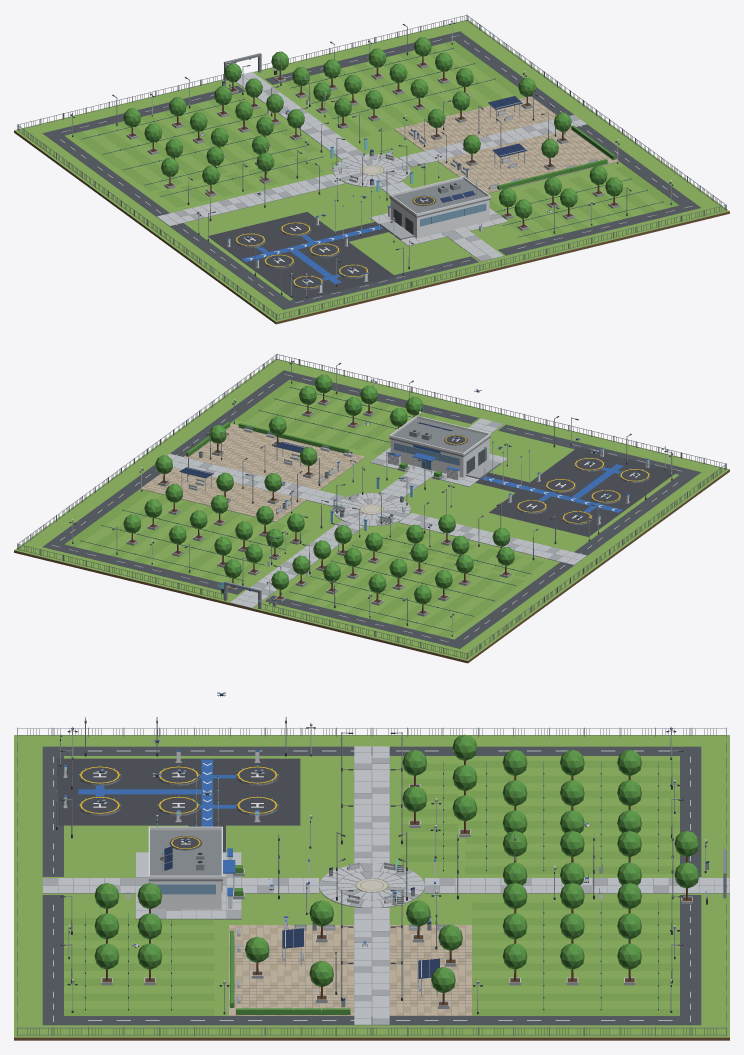
File: Park_Level4_FullEfficiency.fbx
3 views of the same model, one above another, from view 1: azimuth 30°, elevation 25°; view 2: azimuth 150°, elevation 25°; view 3: azimuth 270°, elevation 25° (orthographic). The views are drawn at different scales.
Parts seen in each view (by area): view 1: Park_LV_Ground_01, Park_LV_ServiceHub_01, Park_LV_Plaza_Ring, Park_LV_Rest_South_02, Park_LV_Lawn_SouthEast_05, Park_LV_Yard_Ext2_02, Park_LV_Yard_Core_02, Park_LV_Yard_Ext2_01, Park_LV_Yard_Core_01, Park_LV_Rest_South_03, Park_LV_Lawn_SouthEast_06, Park_LV_Rest_South_01 (+45 smaller); view 2: Park_LV_Ground_01, Park_LV_ServiceHub_01, Park_LV_Plaza_Ring, Park_LV_Lawn_SouthWest_01, Park_LV_Lawn_SouthEast_01, Park_LV_Lawn_SouthEast_05, Park_LV_Lawn_SouthEast_06, Park_LV_Yard_Ext2_01, Park_LV_Yard_Ext2_02, Park_LV_Yard_Core_02, Park_LV_Yard_Core_01, Park_LV_Rest_South_03 (+42 smaller); view 3: Park_LV_Ground_01, Park_LV_ServiceHub_01, Park_LV_Plaza_Ring, Park_LV_Lawn_SouthWest_01, Park_LV_Lawn_SouthWest_02, Park_LV_Rest_South_01, Park_LV_Yard_Ext2_02, Park_LV_Yard_Ext2_01, Park_LV_Yard_Core_01, Park_LV_Yard_Core_02, Park_LV_Lawn_SouthEast_02, Park_LV_Lawn_SouthEast_05 (+74 smaller).
Part boxes in pixels (x1=…): Park_LV_Ground_01: x1=14, y1=20, x2=729, y2=324; Park_LV_ServiceHub_01: x1=379, y1=176, x2=490, y2=239; Park_LV_Plaza_Ring: x1=333, y1=154, x2=410, y2=187; Park_LV_Rest_South_02: x1=445, y1=107, x2=514, y2=137; Park_LV_Lawn_SouthEast_05: x1=71, y1=121, x2=161, y2=162; Park_LV_Yard_Ext2_02: x1=207, y1=224, x2=286, y2=258; Park_LV_Yard_Core_02: x1=265, y1=267, x2=346, y2=301; Park_LV_Yard_Ext2_01: x1=258, y1=212, x2=337, y2=245; Park_LV_Yard_Core_01: x1=319, y1=254, x2=395, y2=288; Park_LV_Rest_South_03: x1=394, y1=121, x2=465, y2=151; Park_LV_Lawn_SouthEast_06: x1=110, y1=150, x2=200, y2=191; Park_LV_Rest_South_01: x1=485, y1=96, x2=556, y2=128; Park_LV_Ground_01: x1=14, y1=359, x2=729, y2=663; Park_LV_ServiceHub_01: x1=389, y1=407, x2=500, y2=479; Park_LV_Plaza_Ring: x1=333, y1=493, x2=410, y2=526; Park_LV_Lawn_SouthWest_01: x1=64, y1=517, x2=158, y2=557; Park_LV_Lawn_SouthEast_01: x1=279, y1=568, x2=368, y2=610; Park_LV_Lawn_SouthEast_05: x1=396, y1=597, x2=486, y2=637; Park_LV_Lawn_SouthEast_06: x1=435, y1=568, x2=525, y2=609; Park_LV_Yard_Ext2_01: x1=489, y1=490, x2=568, y2=524; Park_LV_Yard_Ext2_02: x1=539, y1=502, x2=618, y2=536; Park_LV_Yard_Core_02: x1=600, y1=459, x2=677, y2=494; Park_LV_Yard_Core_01: x1=547, y1=447, x2=627, y2=481; Park_LV_Rest_South_03: x1=231, y1=489, x2=305, y2=521; Park_LV_Ground_01: x1=14, y1=735, x2=729, y2=1040; Park_LV_ServiceHub_01: x1=148, y1=826, x2=235, y2=909; Park_LV_Plaza_Ring: x1=319, y1=863, x2=424, y2=907; Park_LV_Lawn_SouthWest_01: x1=576, y1=978, x2=679, y2=1015; Park_LV_Lawn_SouthWest_02: x1=472, y1=978, x2=575, y2=1015; Park_LV_Rest_South_01: x1=390, y1=985, x2=472, y2=1015; Park_LV_Yard_Ext2_02: x1=218, y1=758, x2=300, y2=791; Park_LV_Yard_Ext2_01: x1=218, y1=792, x2=300, y2=825; Park_LV_Yard_Core_01: x1=57, y1=792, x2=142, y2=825; Park_LV_Yard_Core_02: x1=57, y1=758, x2=142, y2=791; Park_LV_Lawn_SouthEast_02: x1=465, y1=836, x2=571, y2=873; Park_LV_Lawn_SouthEast_05: x1=573, y1=760, x2=679, y2=795.
Size of the model in its own units: 100 by 14.9 by 100.
